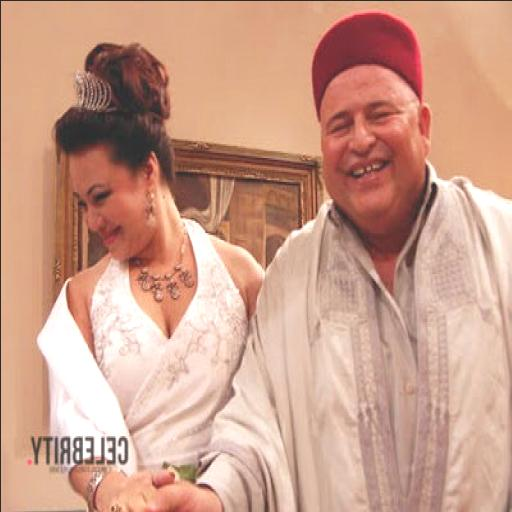AZZA: (70, 143, 156, 258)
sboui: (319, 65, 430, 224)
